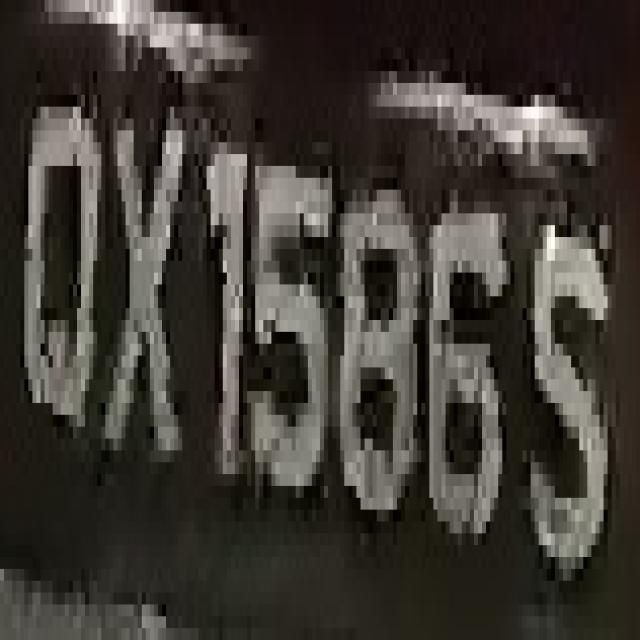1: (207, 83, 255, 510)
5: (255, 130, 324, 498)
6: (434, 119, 514, 522)
8: (328, 178, 413, 557)
Q: (24, 83, 102, 450)
S: (530, 202, 624, 592)
X: (97, 59, 178, 498)
